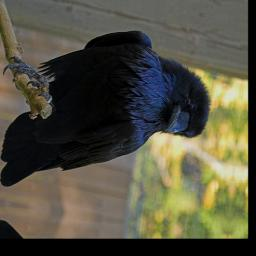Crow: (0, 10, 217, 216)
